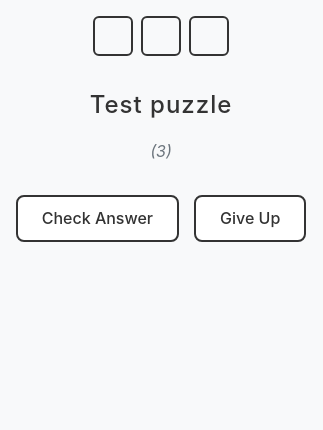
it: CryptogramGame - Basic Functionality › handles give up functionality
Click the button "Give Up" at (250, 219), box [194,195,306,242]
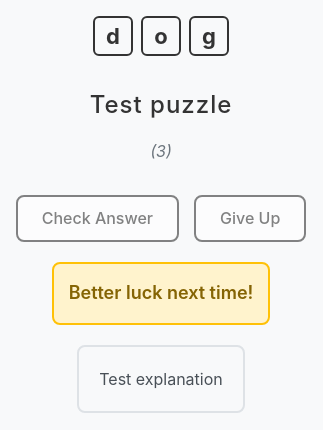
Expected: the text "Better luck next time!" is shown, [52,262,270,325]
Expected: the text "Test explanation" is shown, [77,345,245,413]
Expected: the 1st field holds "d", [93,16,133,56]
